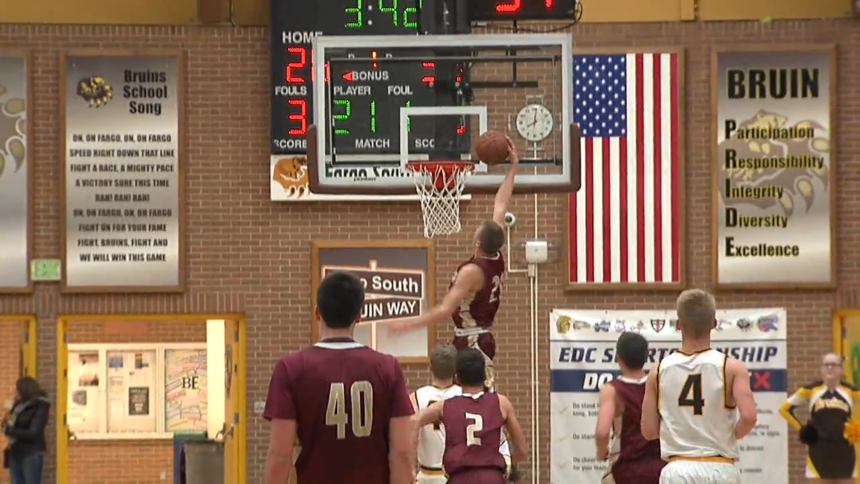ball: (474, 131, 511, 166)
basket: (405, 157, 478, 235)
player: (259, 274, 421, 484), (395, 155, 537, 376), (637, 290, 755, 484), (428, 350, 527, 484), (597, 333, 665, 484), (407, 345, 466, 484)
